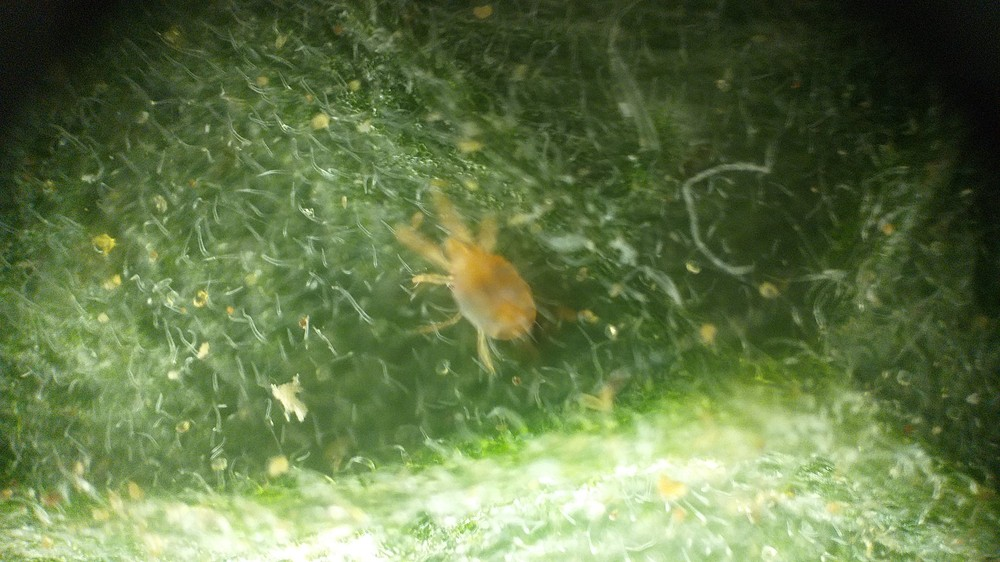Aracnido Rojo: (375, 189, 573, 373)
